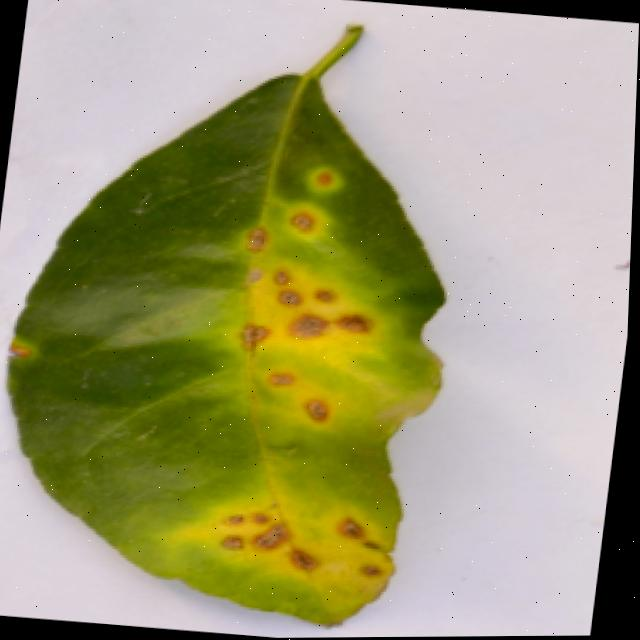canker: (6, 28, 441, 623), (203, 142, 406, 436), (182, 481, 429, 613)
